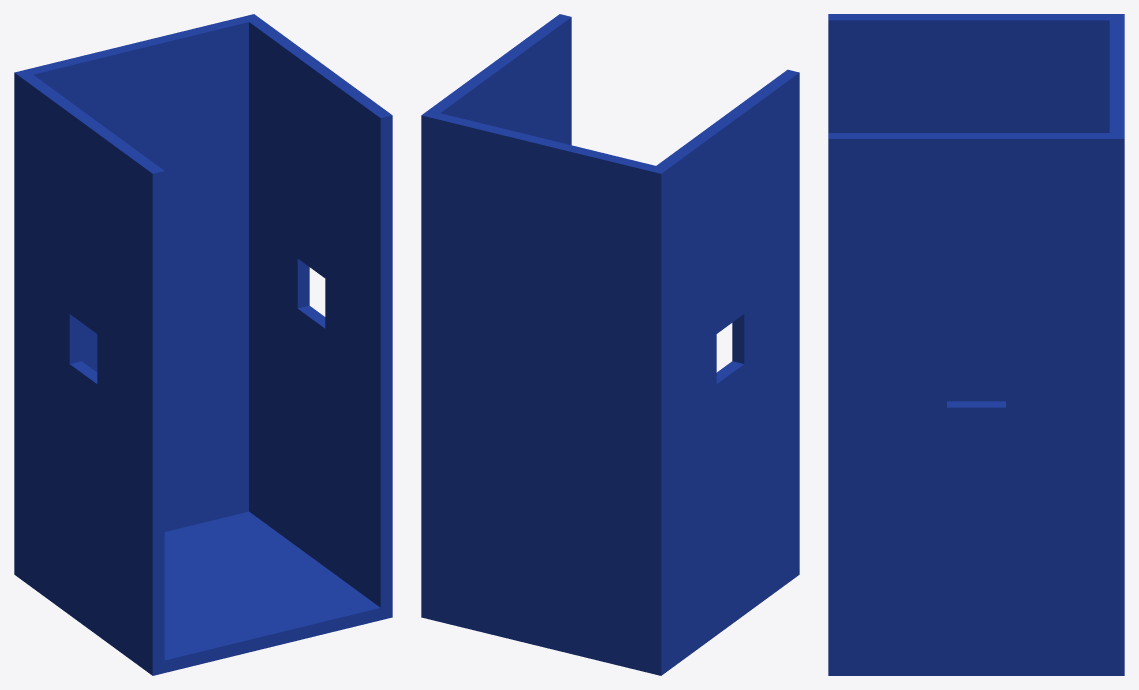
File: Room.obj
The picture shows the model from 3 angles, left to right: view 1: azimuth 30°, elevation 25°; view 2: azimuth 150°, elevation 25°; view 3: azimuth 270°, elevation 25°; orthographic projection. The views are drawn at different scales.
Size of the model in its own units: 2 by 4 by 2.
Materials: 1 (1 with a texture image).
